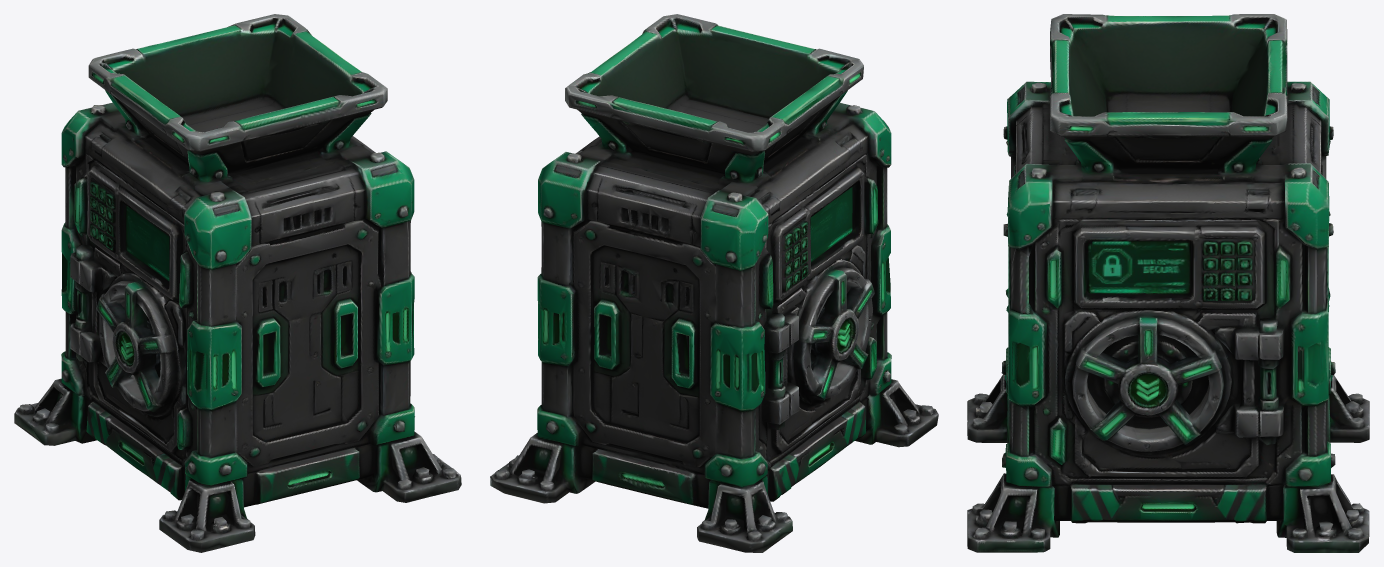
Rendered from BankSafeCollector.glb.
The picture shows the model from 3 angles, left to right: view 1: azimuth 30°, elevation 25°; view 2: azimuth 150°, elevation 25°; view 3: azimuth 270°, elevation 25°; orthographic projection. The views are drawn at different scales.
Parts seen in each view (by area): view 1: Mesh::generatedModels/ccO15HggAnk4gzoeWUZq.gltf; view 2: Mesh::generatedModels/ccO15HggAnk4gzoeWUZq.gltf; view 3: Mesh::generatedModels/ccO15HggAnk4gzoeWUZq.gltf.
Part boxes in pixels (x1,y1,x2,y2): Mesh::generatedModels/ccO15HggAnk4gzoeWUZq.gltf: [14, 14, 461, 552]; Mesh::generatedModels/ccO15HggAnk4gzoeWUZq.gltf: [490, 14, 938, 552]; Mesh::generatedModels/ccO15HggAnk4gzoeWUZq.gltf: [967, 14, 1369, 552].
Size of the model in its own units: 0.7524 by 1 by 0.8801.
Materials: 1 (1 with a texture image).
